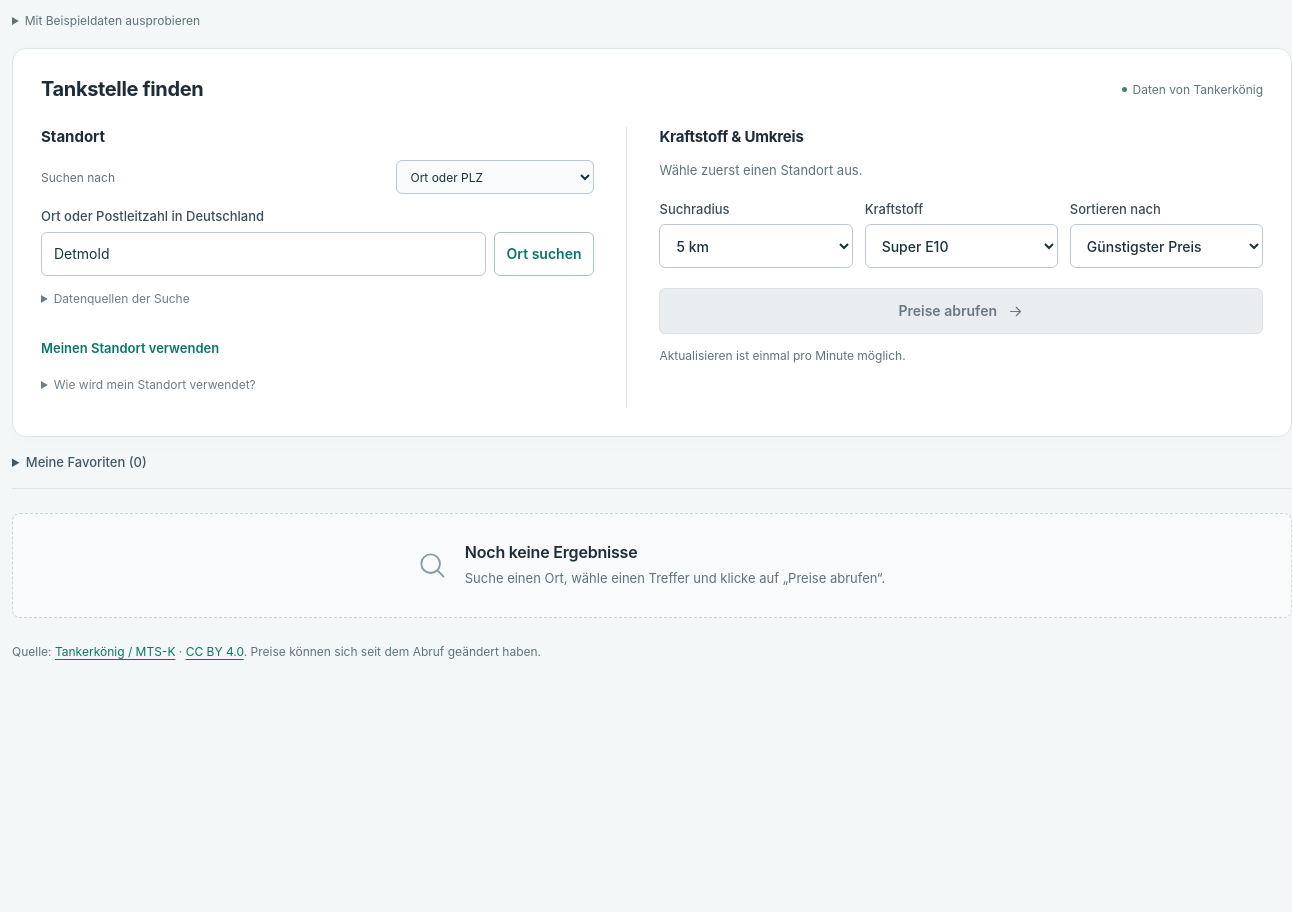
keeps the cooldown on a provider rate-limit response
Step 1. Click the button "Ort suchen" → (544, 254), box [494, 232, 594, 276]
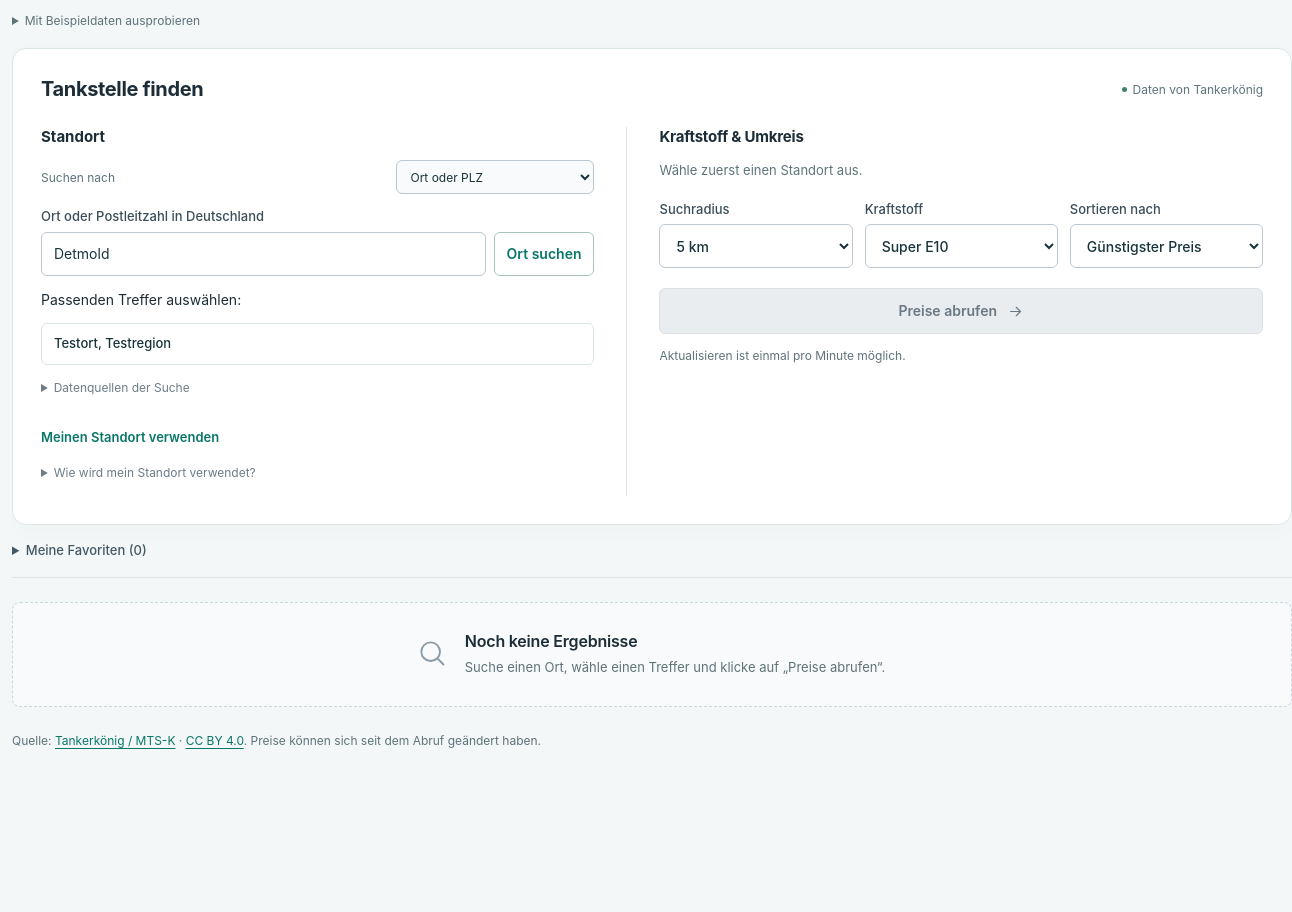
Step 2. Click the button "Testort, Testregion" → (318, 344), box [41, 323, 594, 365]
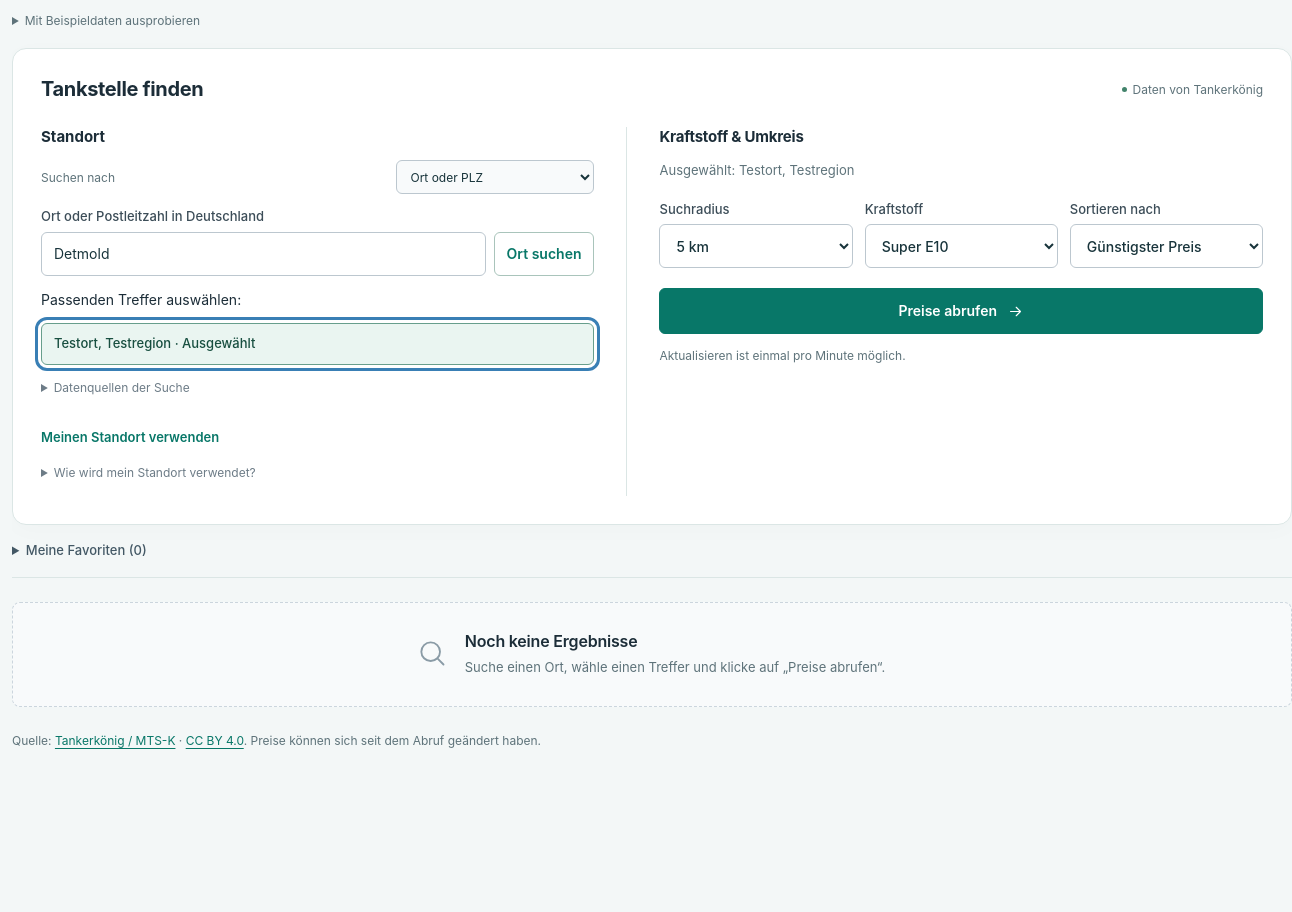
Step 3. Click the button "Preise abrufen" → (961, 311), box [660, 288, 1263, 334]
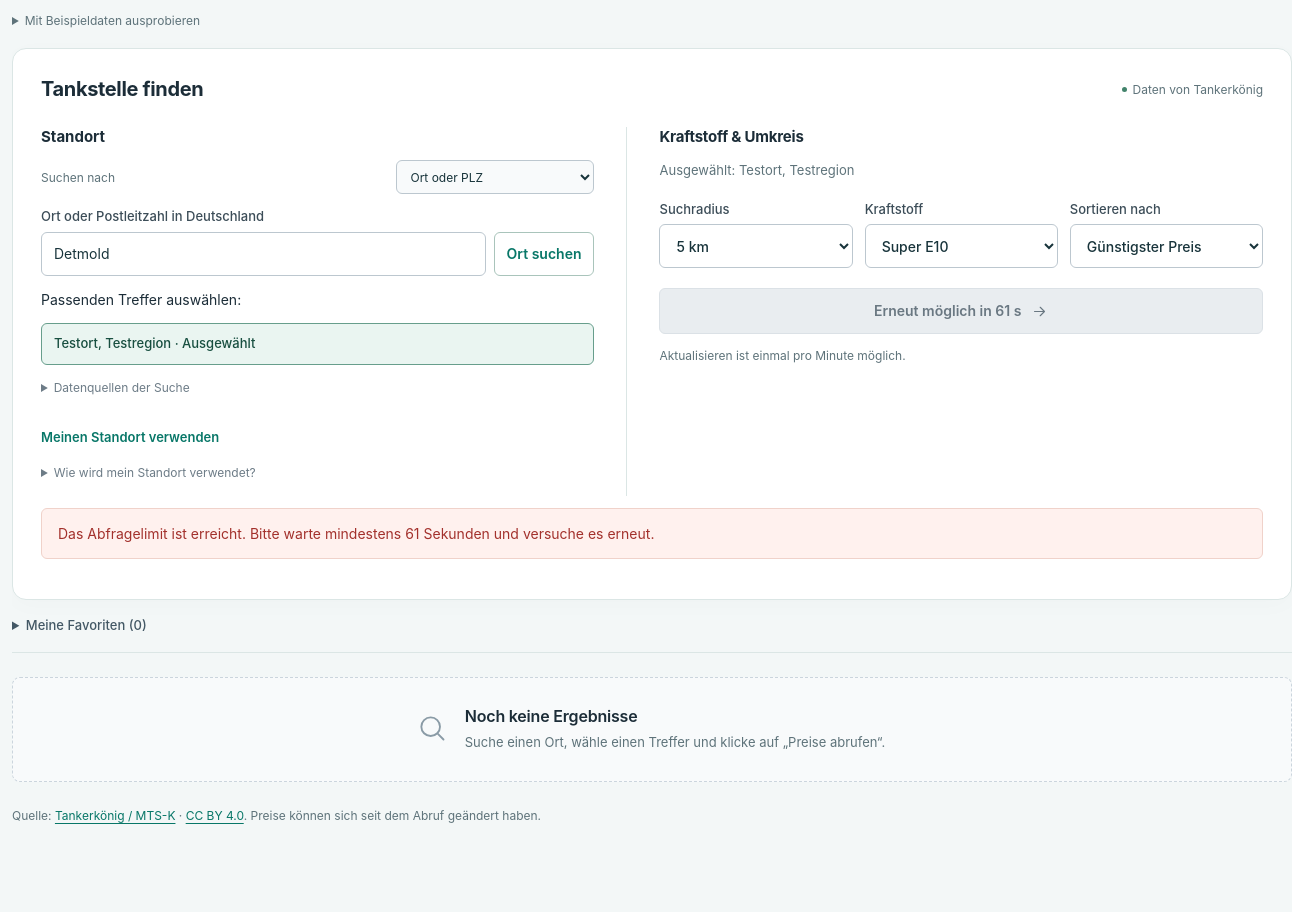
Expected: the 2nd message shows "Abfragelimit", [58, 525, 654, 542]
Expected: the button "Erneut möglich in 61 s" is disabled, [660, 288, 1263, 334]
